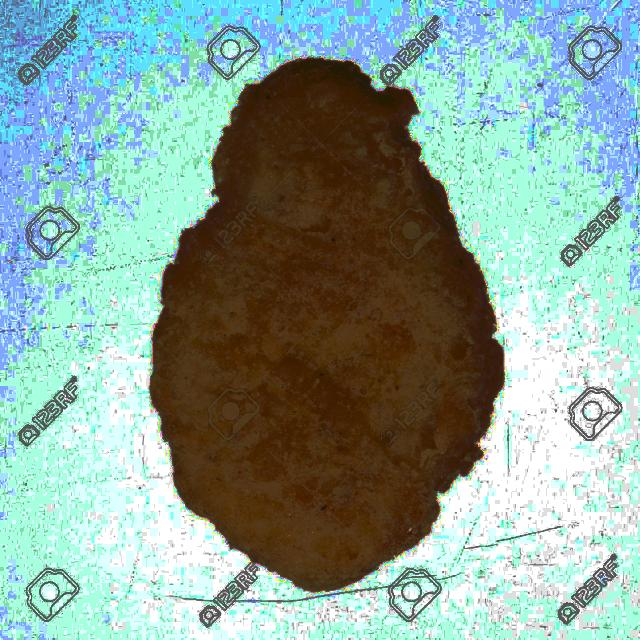chicken_nuggets: (158, 48, 509, 596)
